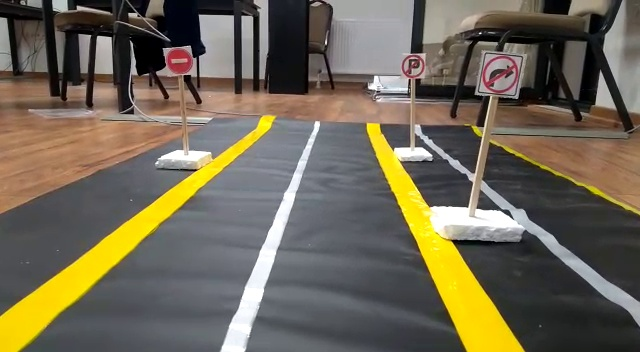girisi_olmayan_yol: (160, 44, 194, 76)
park_yapilmaz: (398, 49, 426, 81)
saga_donulmez: (477, 50, 523, 100)
